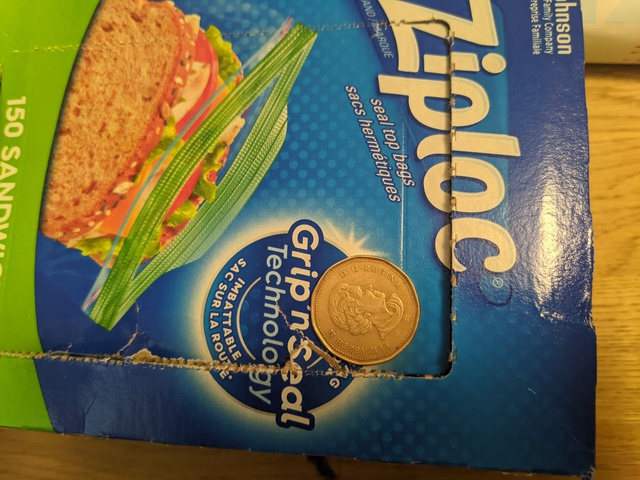loonie: (306, 248, 420, 368)
